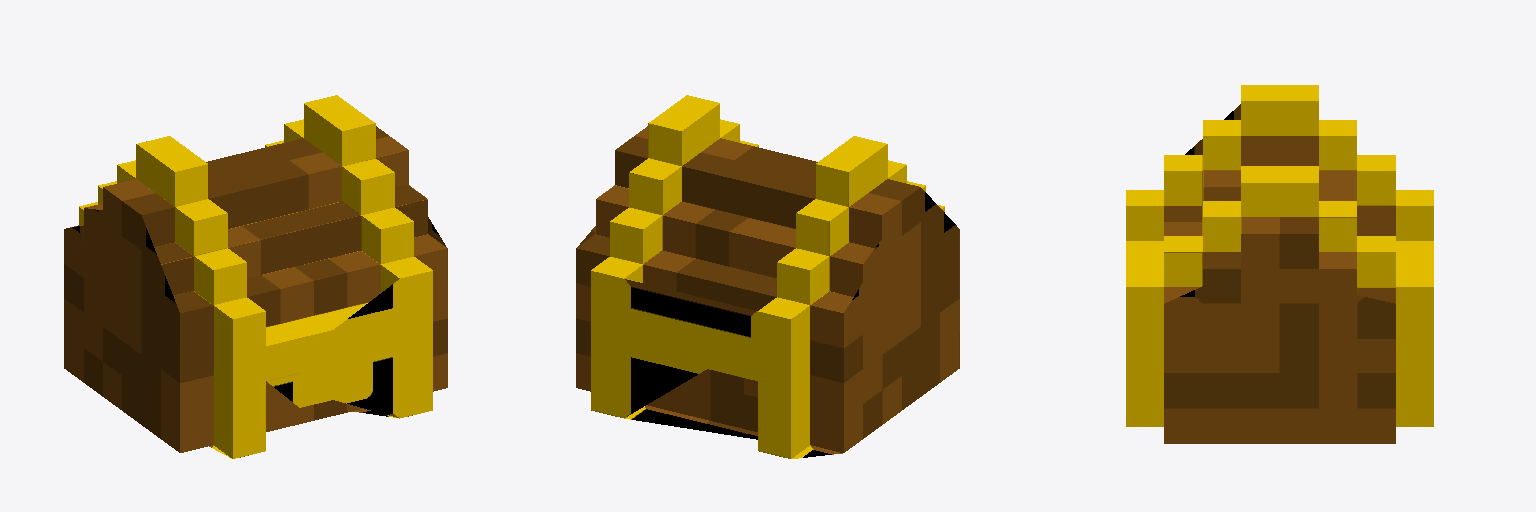
3 renders of one model, left to right at view 1: azimuth 30°, elevation 25°; view 2: azimuth 150°, elevation 25°; view 3: azimuth 270°, elevation 25°, orthographic.
Visible parts, largest first — view 1: Chest_Medium_Closed_Chest_Medium_Closed.002; view 2: Chest_Medium_Closed_Chest_Medium_Closed.002; view 3: Chest_Medium_Closed_Chest_Medium_Closed.002.
Part boxes in pixels (x1,y1,x2,y2): Chest_Medium_Closed_Chest_Medium_Closed.002: (64, 95, 447, 458); Chest_Medium_Closed_Chest_Medium_Closed.002: (576, 95, 959, 458); Chest_Medium_Closed_Chest_Medium_Closed.002: (1126, 85, 1433, 443).
Bounding box in the file's own units: 0.8 × 0.7 × 0.8.
Materials: 1 (1 with a texture image).